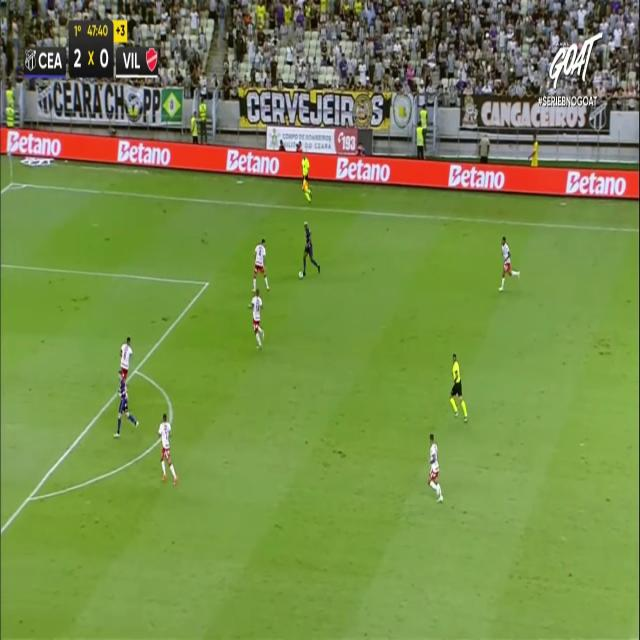ball: (298, 267, 305, 282)
player: (115, 369, 140, 444), (157, 413, 178, 485), (298, 221, 320, 278), (498, 235, 520, 291), (250, 238, 270, 295), (427, 433, 443, 502), (248, 287, 265, 349), (118, 335, 135, 388)
referee: (449, 352, 468, 422), (300, 152, 312, 202)
